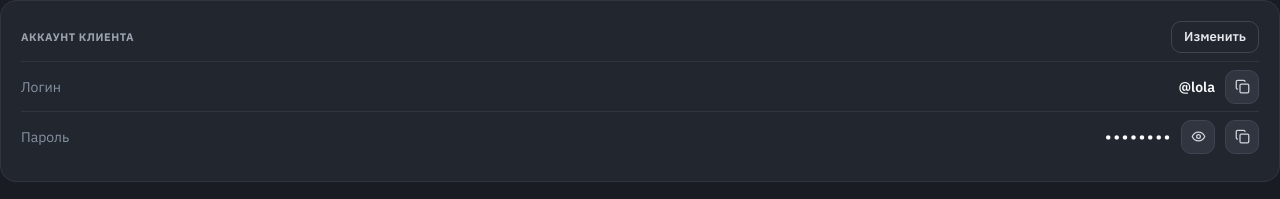
«Аккаунт клиента»: пароль только по действию (14.11.2026) › при открытии пароль не загружается, по «Показать» — загружается и виден
The width and height of the screenshot is (1280, 199).
Expected: the text "@lola" is shown, [1178, 78, 1215, 96]
Expected: the text "••••••••" is shown, [1104, 128, 1171, 146]
Click the button named "Показать пароль" at (1198,136), box [1181, 120, 1215, 154]
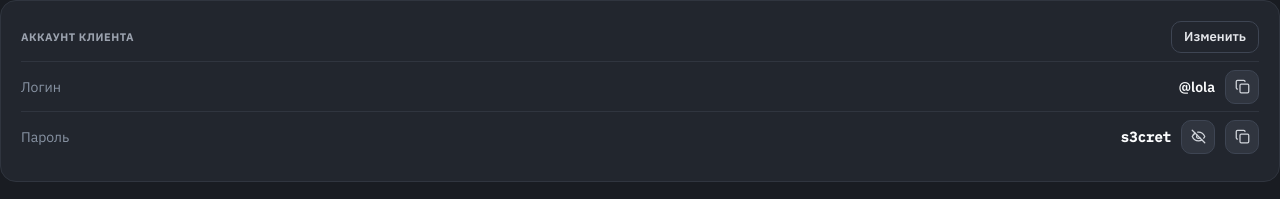
Expected: the text "s3cret" is shown, [1121, 128, 1171, 146]
# Скрыть и показать снова — второй раз с сервера не грузим.
Click the button named "Скрыть пароль" at (1198,136), box [1181, 120, 1215, 154]
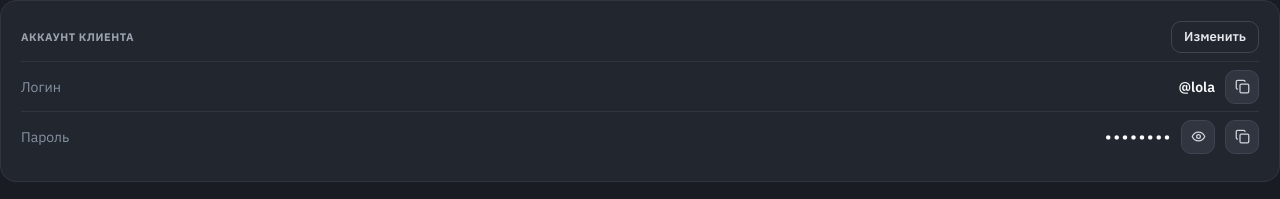
Click the button named "Показать пароль" at (1198,136), box [1181, 120, 1215, 154]
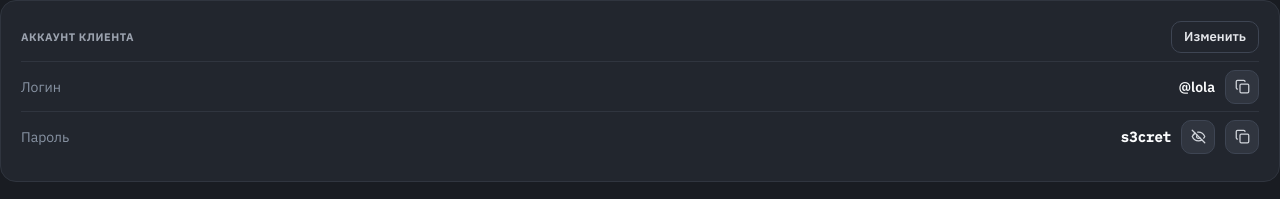
Expected: the text "s3cret" is shown, [1121, 128, 1171, 146]
